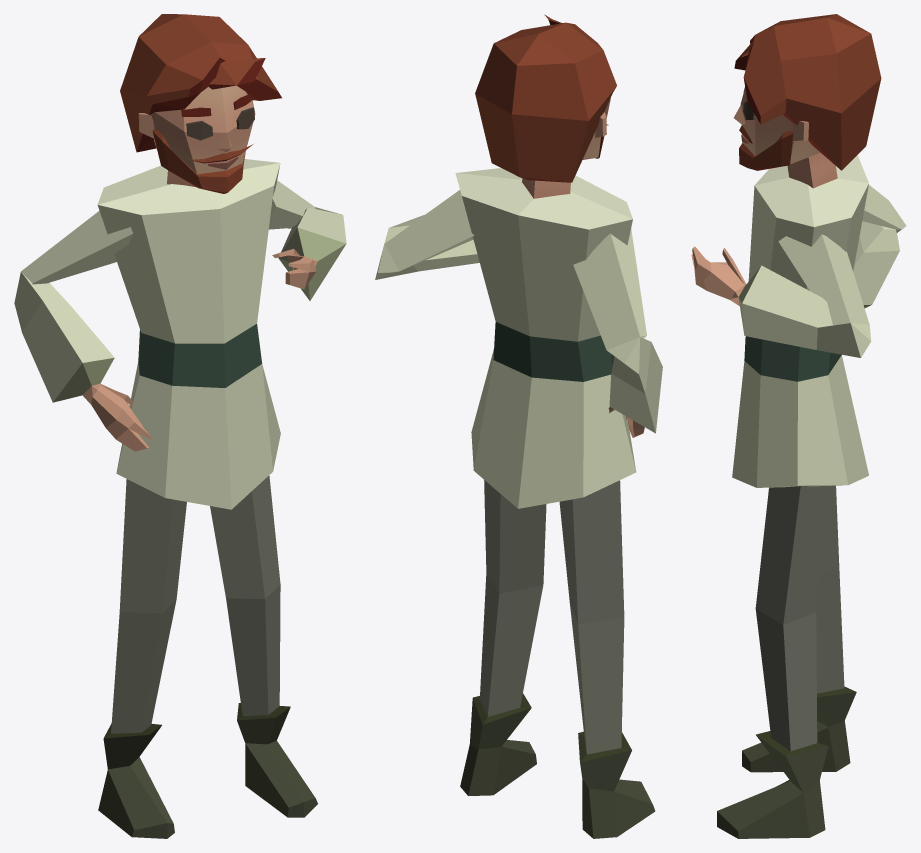
Rendered from guyde.glb.
The picture shows the model from 3 angles, left to right: view 1: azimuth 30°, elevation 25°; view 2: azimuth 150°, elevation 25°; view 3: azimuth 270°, elevation 25°; orthographic projection.
Parts seen in each view (by area): view 1: Object_2; view 2: Object_2; view 3: Object_2.
Part boxes in pixels (bbox=[...]): Object_2: bbox=[14, 14, 346, 838]; Object_2: bbox=[375, 14, 662, 838]; Object_2: bbox=[691, 14, 906, 838].
Size of the model in its own units: 0.6903 by 1.78 by 0.4456.
Materials: 1 (1 with a texture image).
